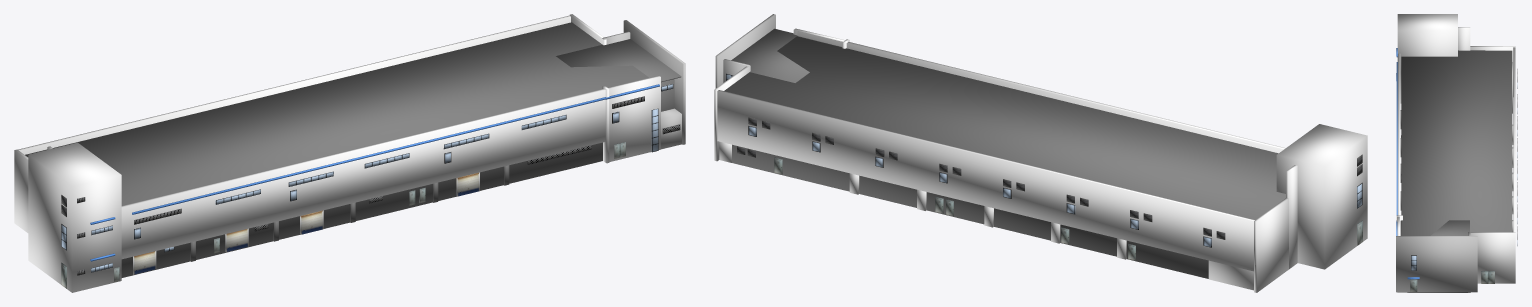
Rendered from whfa_4f_mini.gltf.
3 renders of one model, left to right at view 1: azimuth 30°, elevation 25°; view 2: azimuth 150°, elevation 25°; view 3: azimuth 270°, elevation 25°, orthographic. The views are drawn at different scales.
Visible parts, largest first — view 1: whfa_waiguan_33, whfa_waiguan_53, whfa_waiguan_12, whfa_waiguan_32, whfa_waiguan_102, whfa_waiguan_73, whfa_waiguan_24, whfa_waiguan_100, whfa_waiguan_104, whfa_waiguan_74, whfa_waiguan_86, whfa_waiguan_93 (+2 smaller); view 2: whfa_waiguan_33, whfa_waiguan_32, whfa_waiguan_12, whfa_waiguan_53, whfa_waiguan_104, whfa_waiguan_73, whfa_waiguan_24, whfa_waiguan_103, whfa_waiguan_3, whfa_waiguan_105; view 3: whfa_waiguan_33, whfa_waiguan_24, whfa_waiguan_12, whfa_waiguan_105, whfa_waiguan_53, whfa_waiguan_32, whfa_waiguan_73, whfa_waiguan_103, whfa_waiguan_100, whfa_waiguan_104, whfa_waiguan_78, whfa_waiguan_80 (+1 smaller).
Part boxes in pixels (x1,y1,x2,y2): whfa_waiguan_33: (25, 22, 648, 277); whfa_waiguan_53: (121, 76, 653, 259); whfa_waiguan_12: (28, 142, 121, 292); whfa_waiguan_32: (18, 15, 570, 154); whfa_waiguan_102: (608, 75, 660, 161); whfa_waiguan_73: (556, 39, 681, 82); whfa_waiguan_24: (623, 20, 685, 144); whfa_waiguan_100: (132, 97, 605, 214); whfa_waiguan_104: (14, 149, 28, 232); whfa_waiguan_74: (661, 108, 681, 149); whfa_waiguan_86: (300, 210, 323, 234); whfa_waiguan_93: (456, 172, 479, 196); whfa_waiguan_33: (724, 36, 1285, 278); whfa_waiguan_32: (717, 90, 1254, 271); whfa_waiguan_12: (1276, 124, 1367, 269); whfa_waiguan_53: (797, 31, 1285, 153); whfa_waiguan_104: (1254, 198, 1288, 292); whfa_waiguan_73: (731, 28, 841, 82); whfa_waiguan_24: (715, 14, 775, 88); whfa_waiguan_103: (1286, 165, 1297, 269); whfa_waiguan_3: (1208, 260, 1253, 290); whfa_waiguan_105: (714, 66, 750, 161); whfa_waiguan_33: (1401, 50, 1512, 235); whfa_waiguan_24: (1396, 236, 1477, 292); whfa_waiguan_12: (1397, 14, 1457, 103); whfa_waiguan_105: (1470, 232, 1515, 283); whfa_waiguan_53: (1397, 53, 1400, 235); whfa_waiguan_32: (1513, 47, 1515, 232); whfa_waiguan_73: (1400, 220, 1469, 235); whfa_waiguan_103: (1458, 27, 1470, 50); whfa_waiguan_100: (1396, 62, 1397, 215); whfa_waiguan_104: (1470, 46, 1515, 96); whfa_waiguan_78: (1410, 279, 1417, 291); whfa_waiguan_80: (1481, 271, 1488, 283).
Bounding box in the file's own units: 355 × 58.97 × 88.28.
Materials: 29 (25 with a texture image).
